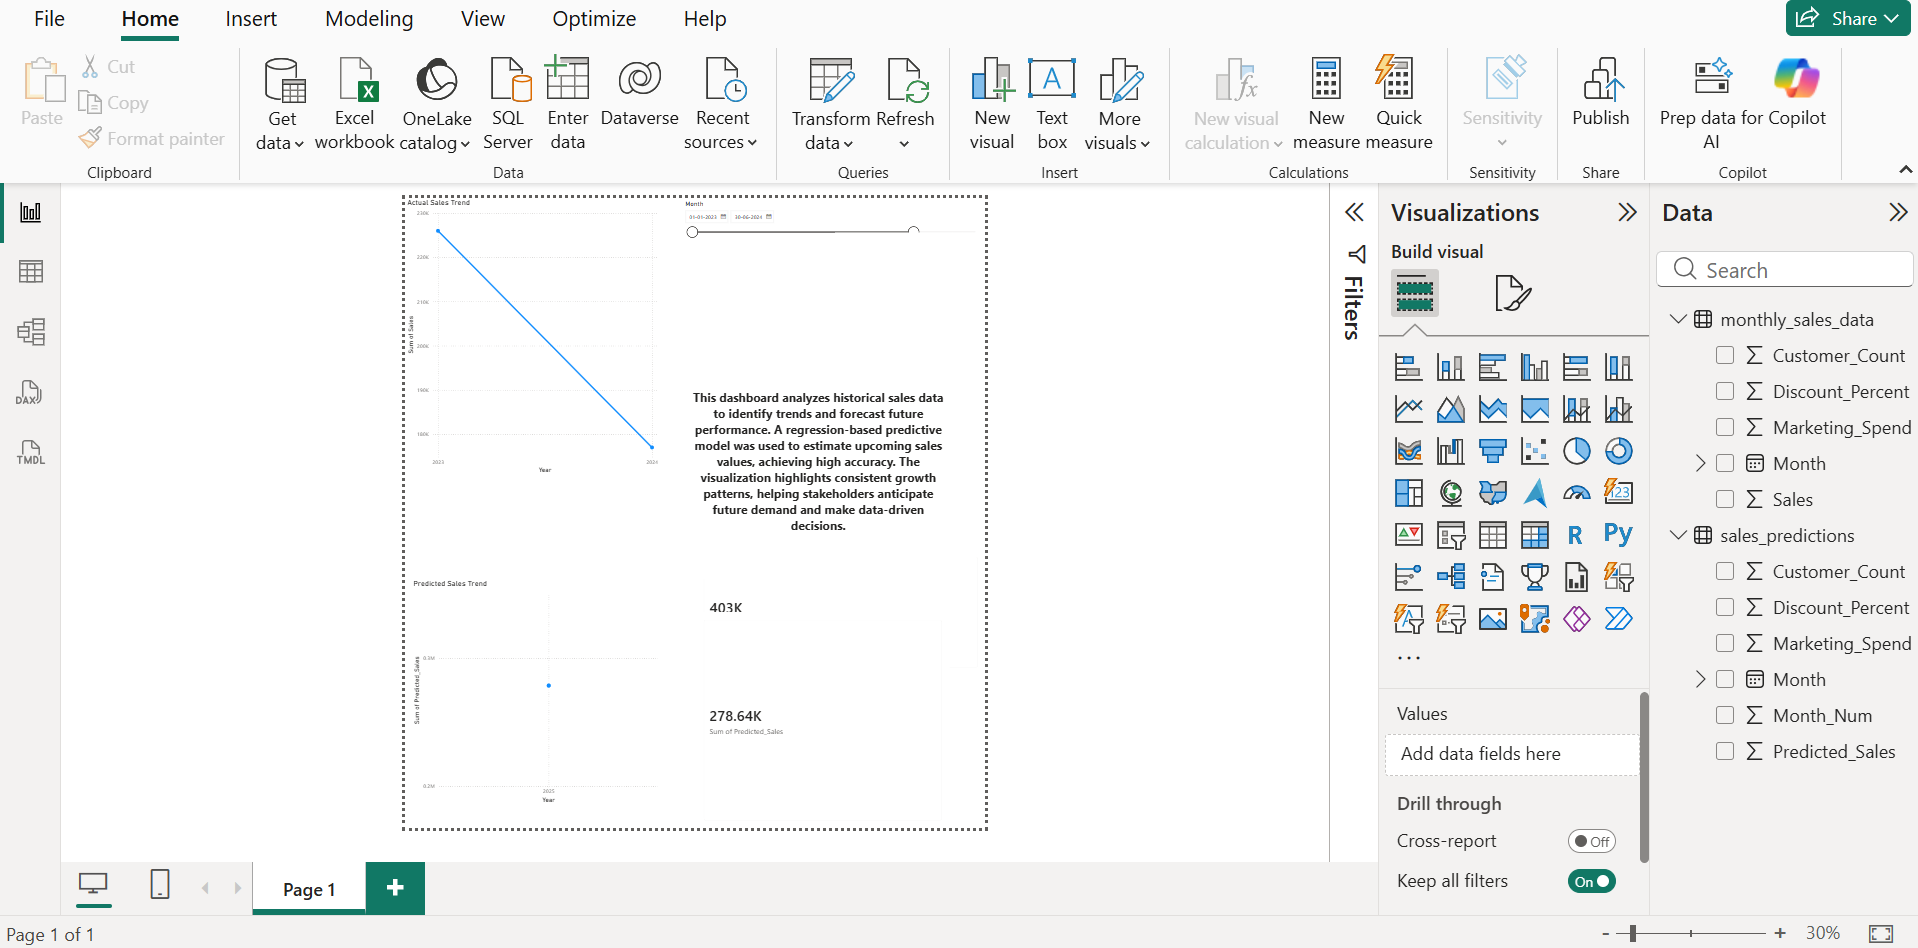

The dashboard page shown, as its layout file describes it:
{"tool":"powerbi","page":{"name":"Page 1","canvas":[1291,1400],"ordinal":0},"visuals":[{"type":"lineChart","title":"Actual Sales Trend","fields":{"Category":["monthly_sales_data.Month.Variation.Date Hierarchy.Year","monthly_sales_data.Month.Variation.Date Hierarchy.Quarter","monthly_sales_data.Month.Variation.Date Hierarchy.Month","monthly_sales_data.Month.Variation.Date Hierarchy.Day"],"Y":["Sum(monthly_sales_data.Sales)"]},"box":[0,0,566.7,616.7],"z":0},{"type":"lineChart","title":"Predicted Sales Trend","fields":{"Category":["sales_predictions.Month.Variation.Date Hierarchy.Year","sales_predictions.Month.Variation.Date Hierarchy.Quarter","sales_predictions.Month.Variation.Date Hierarchy.Month","sales_predictions.Month.Variation.Date Hierarchy.Day"],"Y":["Sum(sales_predictions.Predicted_Sales)"]},"box":[13.3,846.7,553.3,503.3],"z":1000},{"type":"cardVisual","fields":{"Data":["Sum(monthly_sales_data.Sales)"]},"box":[646.7,780,643.3,280],"z":2000},{"type":"cardVisual","fields":{"Data":["Sum(sales_predictions.Predicted_Sales)"]},"box":[646.7,920,563.3,480],"z":3000},{"type":"slicer","fields":{"Values":["monthly_sales_data.Month"]},"box":[610,0,680,343.3],"z":3001},{"type":"textbox","box":[956,75,320,344],"z":3002},{"type":"textbox","box":[626.7,420,583.3,426.7],"z":3003}]}

Visuals, with their boxes on the page's 1291x1400 design canvas (x1, y1, x2, y2). These are canvas units, not pixel positions in the 1918x948 screenshot, which may show the page scaled, cropped or inside an application window:
"Actual Sales Trend" lineChart: <bbox>0, 0, 567, 617</bbox>
"Predicted Sales Trend" lineChart: <bbox>13, 847, 567, 1350</bbox>
cardVisual - Sum(monthly_sales_data.Sales): <bbox>647, 780, 1290, 1060</bbox>
cardVisual - Sum(sales_predictions.Predicted_Sales): <bbox>647, 920, 1210, 1400</bbox>
slicer - monthly_sales_data.Month: <bbox>610, 0, 1290, 343</bbox>
textbox: <bbox>956, 75, 1276, 419</bbox>
textbox: <bbox>627, 420, 1210, 847</bbox>
